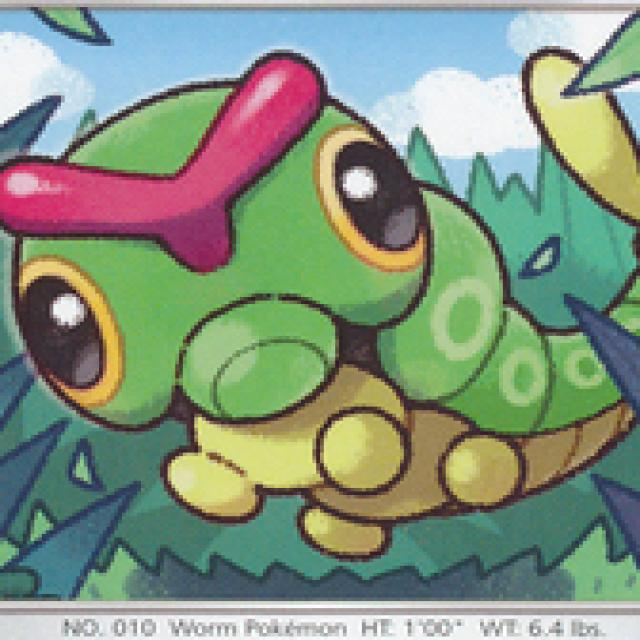Caterpie: (7, 48, 640, 538)
